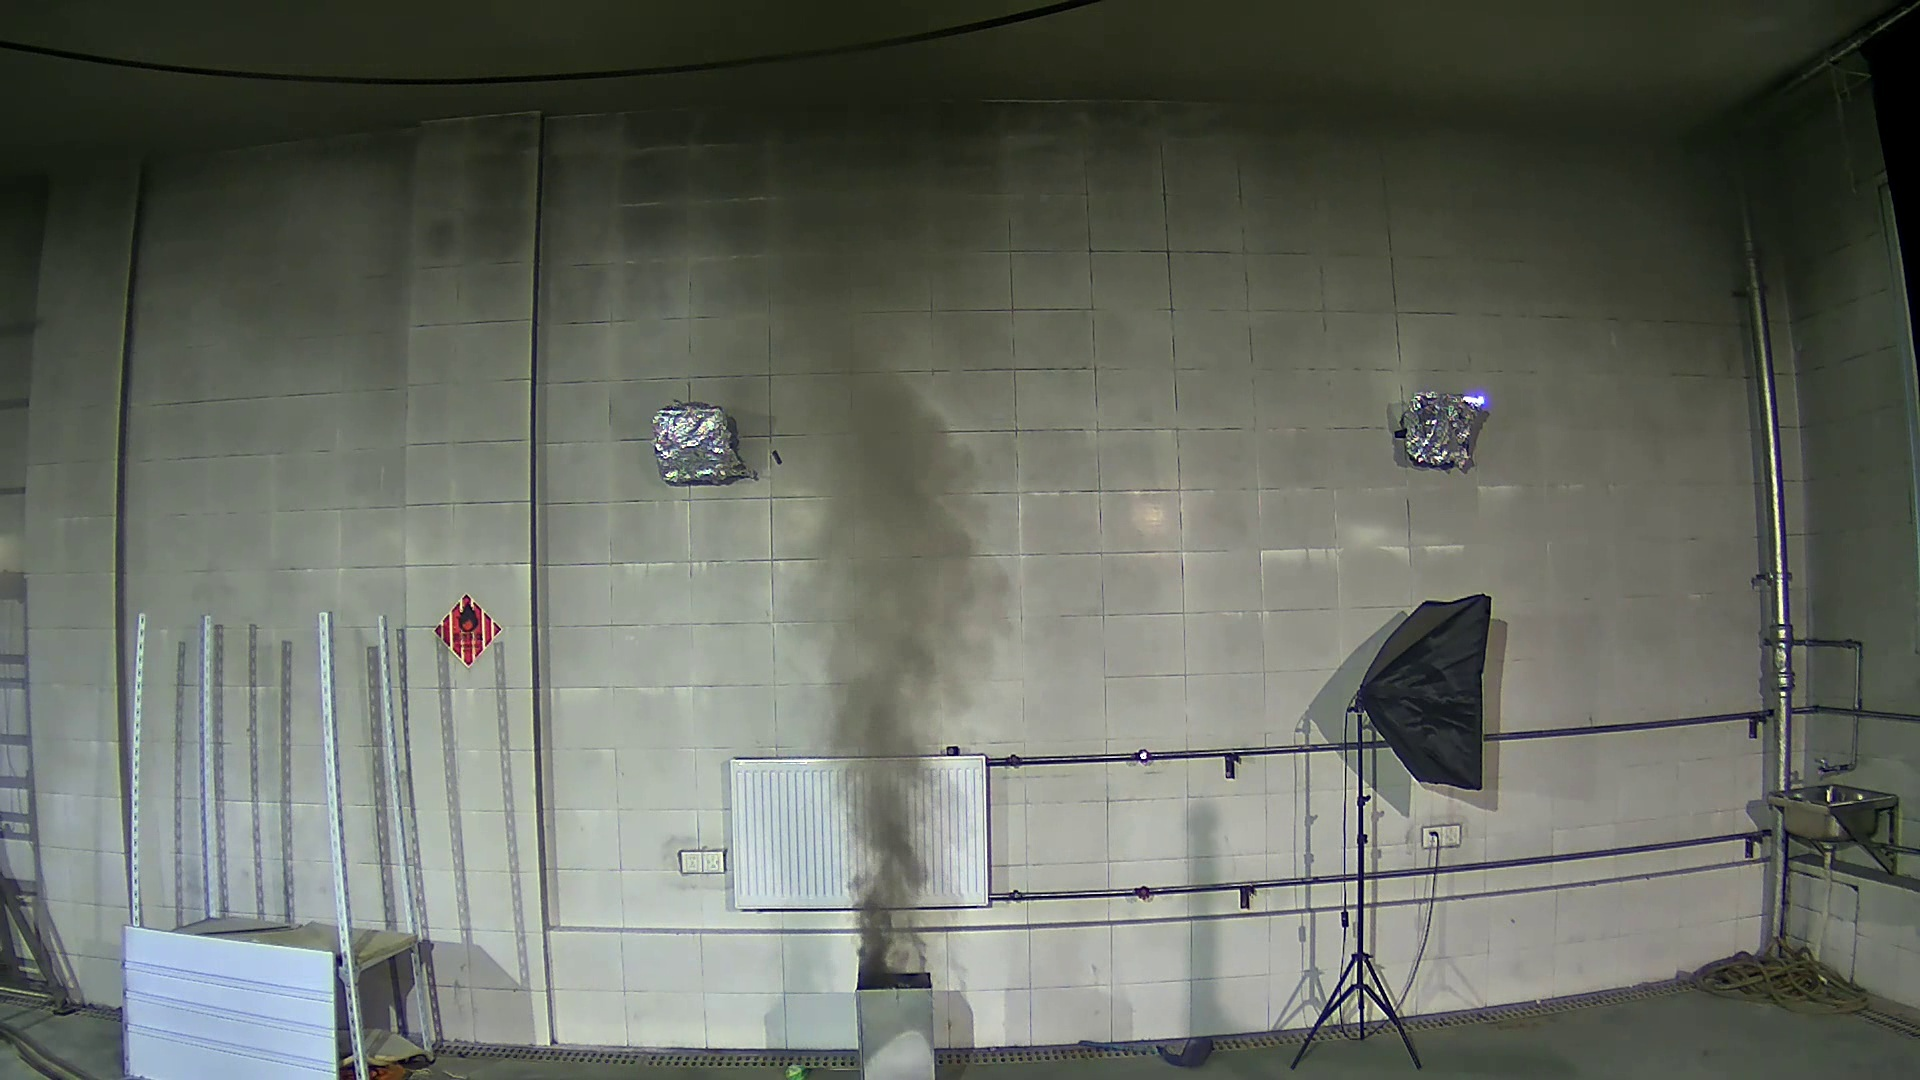smoke: (754, 380, 1029, 971)
